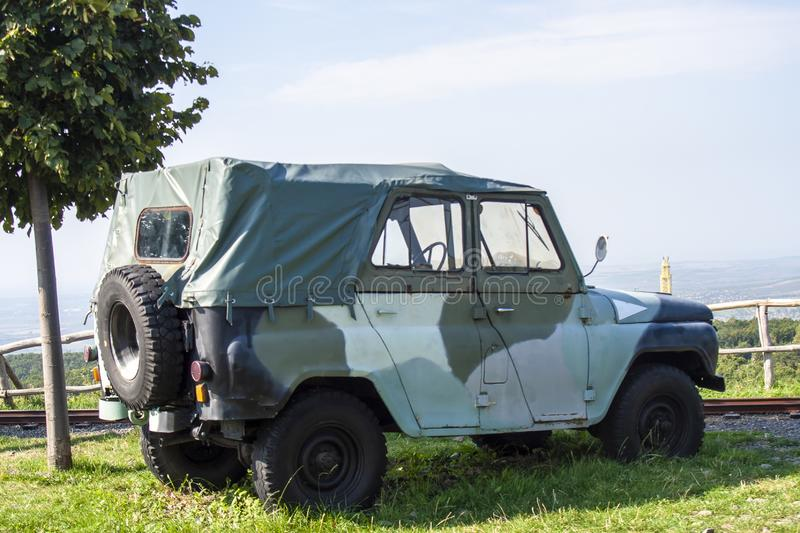jeep: (100, 161, 722, 513)
